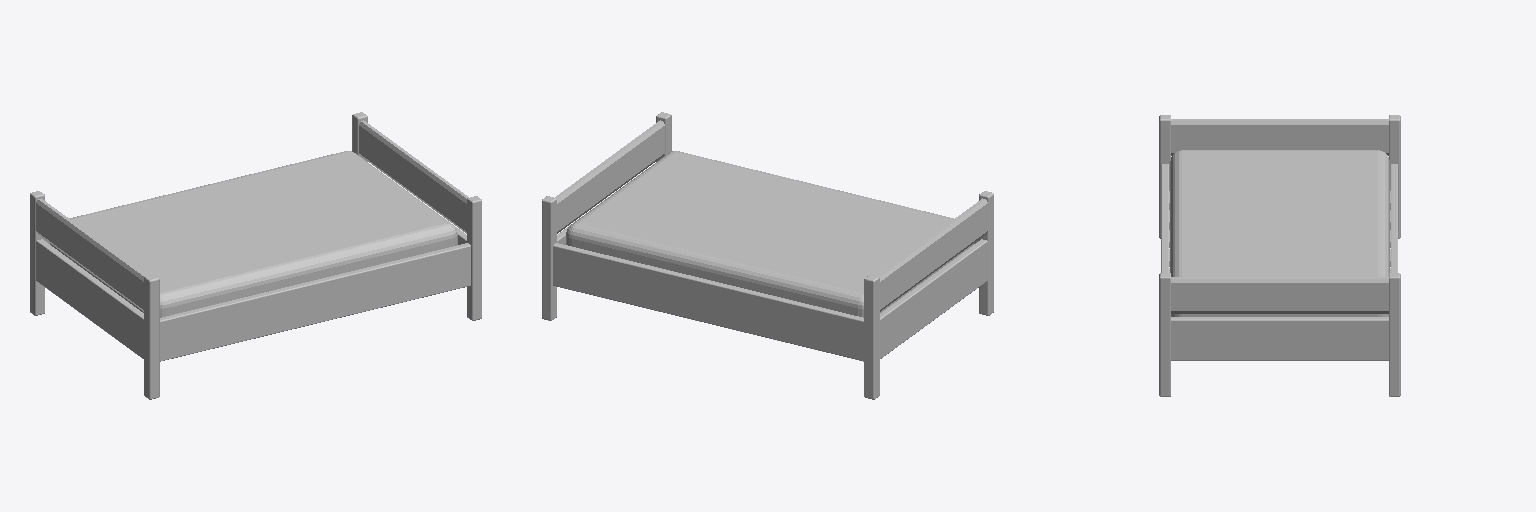
The picture shows the model from 3 angles: view 1: azimuth 30°, elevation 25°; view 2: azimuth 150°, elevation 25°; view 3: azimuth 270°, elevation 25°; orthographic projection.
Visible parts, largest first — view 1: Bed_mattress, Bed_Side_Cube_2, Bed__1_Cube_22, Bed__1_Cube_32, Bed___Cube_3, Bed__1_Cube3, Bed___Cube2, Bed__1_Cube_12; view 2: Bed_mattress, Bed_Side_Cube, Bed__1_Cube_22, Bed__1_Cube_32, Bed___Cube_3, Bed__1_Cube_12, Bed___Cube_11, Bed__1_Cube3; view 3: Bed_mattress, Bed___Cube_21, Bed___Cube_3, Bed__1_Cube_32, Bed___Cube2, Bed___Cube_11, Bed_Side_Cube_2, Bed__1_Cube_12, Bed__1_Cube3, Bed_Side_Cube.
Boxes of the visible parts, box(x1,y1,x2,y2) form: Bed_mattress: box(50, 151, 457, 317); Bed_Side_Cube_2: box(160, 243, 470, 361); Bed__1_Cube_22: box(36, 239, 143, 358); Bed__1_Cube_32: box(36, 198, 146, 311); Bed___Cube_3: box(359, 120, 468, 233); Bed__1_Cube3: box(144, 275, 159, 399); Bed___Cube2: box(467, 196, 481, 320); Bed__1_Cube_12: box(30, 191, 44, 315); Bed_mattress: box(566, 151, 973, 317); Bed_Side_Cube: box(553, 243, 863, 361); Bed__1_Cube_22: box(880, 239, 987, 358); Bed__1_Cube_32: box(877, 198, 987, 311); Bed___Cube_3: box(555, 120, 664, 233); Bed__1_Cube_12: box(864, 275, 879, 399); Bed___Cube_11: box(542, 196, 556, 320); Bed__1_Cube3: box(979, 191, 993, 315); Bed_mattress: box(1170, 150, 1389, 316); Bed___Cube_21: box(1171, 317, 1388, 360); Bed___Cube_3: box(1171, 277, 1388, 313); Bed__1_Cube_32: box(1171, 119, 1388, 155); Bed___Cube2: box(1159, 273, 1170, 396); Bed___Cube_11: box(1389, 273, 1400, 396); Bed_Side_Cube_2: box(1161, 164, 1168, 272); Bed__1_Cube_12: box(1389, 115, 1400, 238); Bed__1_Cube3: box(1159, 115, 1170, 238); Bed_Side_Cube: box(1391, 164, 1397, 272).
Bounding box in the file's own units: 6135 × 2109 × 3847.